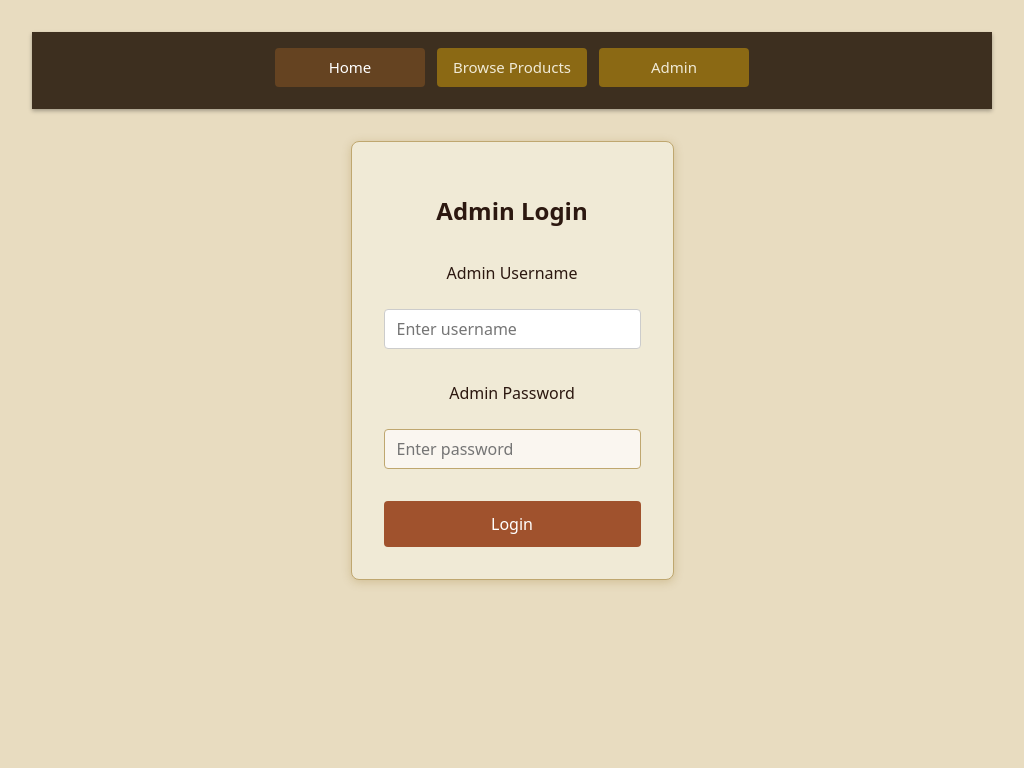
Test: Admin Login › should successfully login with correct credentials
The image size is (1024, 768).
In the field with placeholder "Enter username": (512, 329) [384,309,640,349], type "admin"
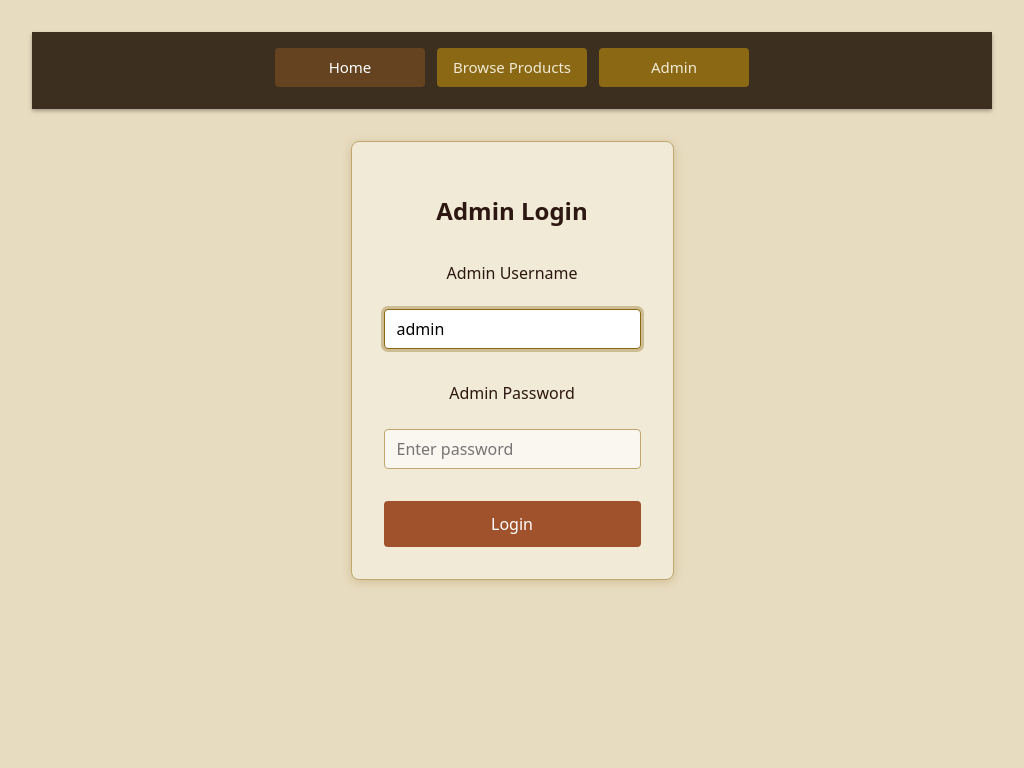
In the password field with placeholder "Enter password": (512, 449) [384,429,640,469], type "password123"
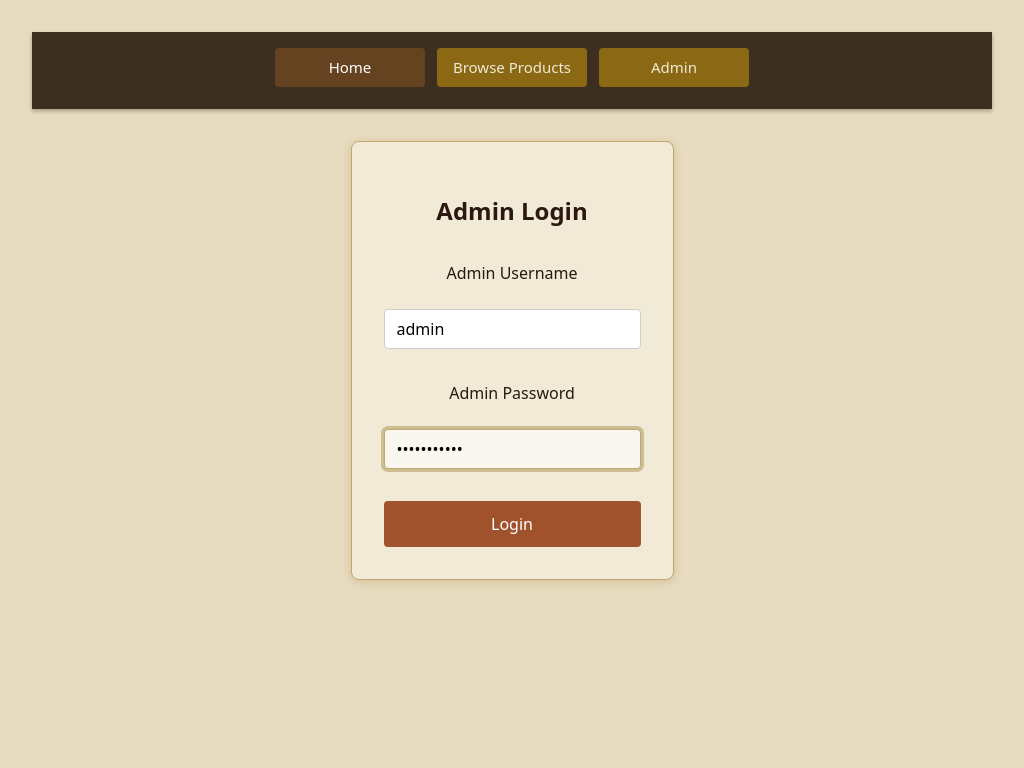
Click the button "Login": (512, 524) [384,501,640,547]
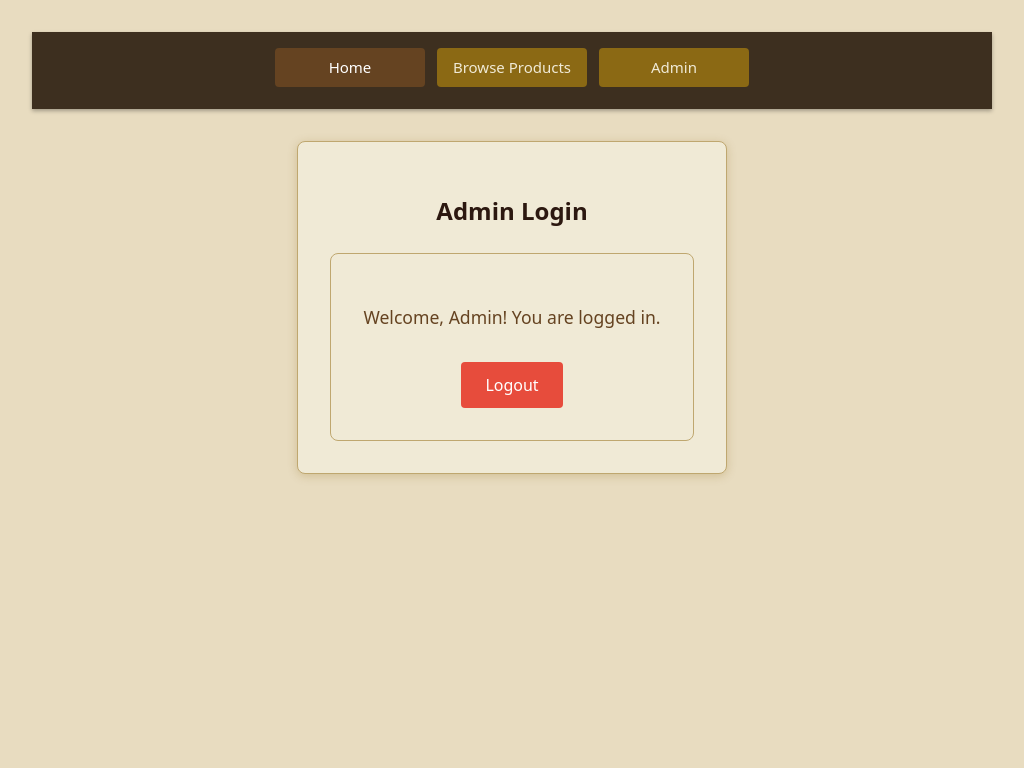
Check: the text "Welcome, Admin! You are logged in." is shown, box [363,304,661,330]
Check: the button "Logout" is shown, box [461,362,563,408]
Check: the label with placeholder "Enter username" is gone
